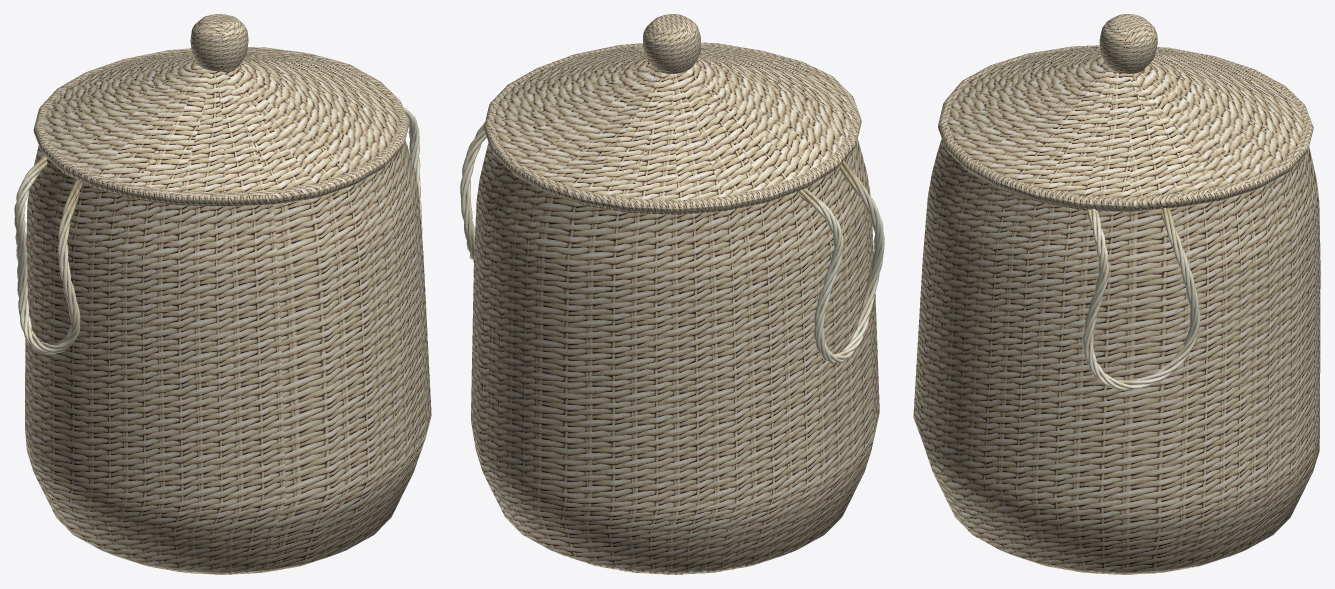
File: laundrybasket.glb
The picture shows the model from 3 angles, left to right: view 1: azimuth 30°, elevation 25°; view 2: azimuth 150°, elevation 25°; view 3: azimuth 270°, elevation 25°; orthographic projection.
Parts seen in each view (by area): view 1: LAUNDRY_BASKET; view 2: LAUNDRY_BASKET; view 3: LAUNDRY_BASKET.
Part boxes in pixels (x1,y1,x2,y2): LAUNDRY_BASKET: (14, 14, 431, 574); LAUNDRY_BASKET: (460, 14, 884, 574); LAUNDRY_BASKET: (913, 14, 1320, 574).
Size of the model in its own units: 0.4014 by 0.502 by 0.3777.
Materials: 1 (1 with a texture image).
